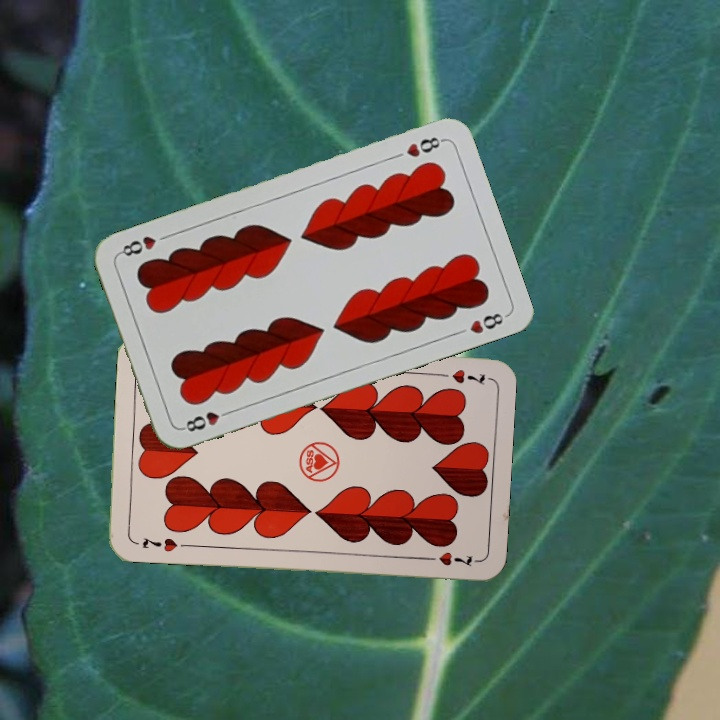H7: (431, 366, 488, 387), (138, 533, 179, 555)
H8: (178, 406, 235, 435), (402, 133, 447, 160)
